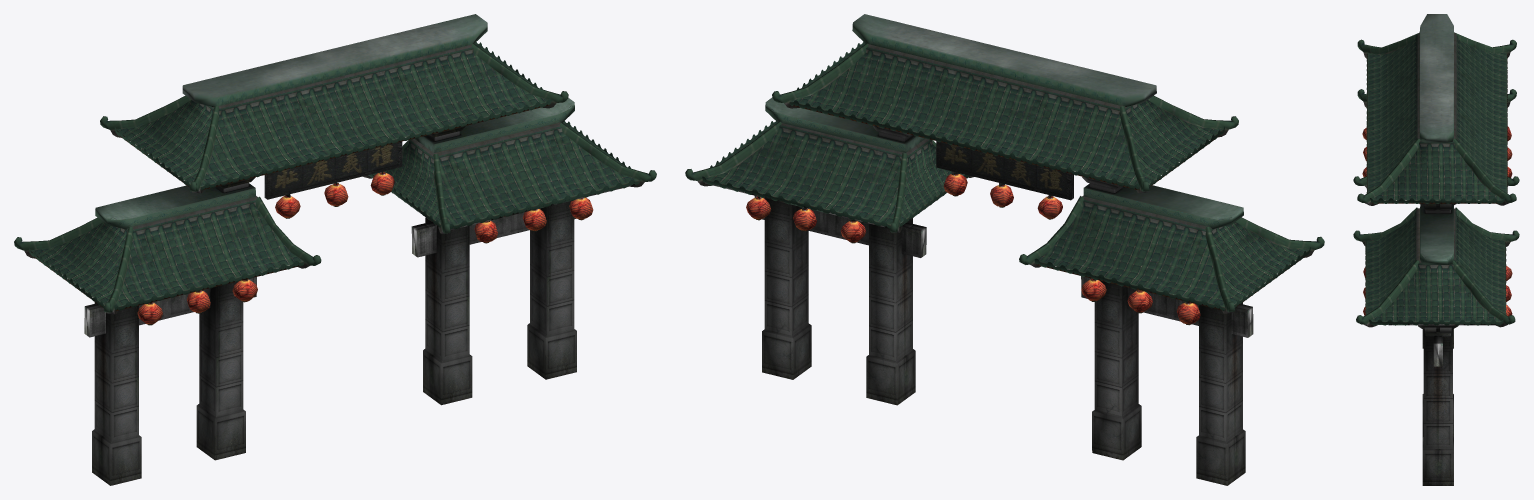
Rendered from temple.DAE.
3 views of the same model, side by side, from view 1: azimuth 30°, elevation 25°; view 2: azimuth 150°, elevation 25°; view 3: azimuth 270°, elevation 25° (orthographic). The views are drawn at different scales.
Visible parts, largest first — view 1: temple500; view 2: temple500; view 3: temple500.
Boxes of the visible parts, bbox=[...] form: temple500: bbox=[14, 14, 656, 485]; temple500: bbox=[685, 14, 1324, 485]; temple500: bbox=[1353, 14, 1519, 485].
Bounding box in the file's own units: 1033 × 317 × 660.
